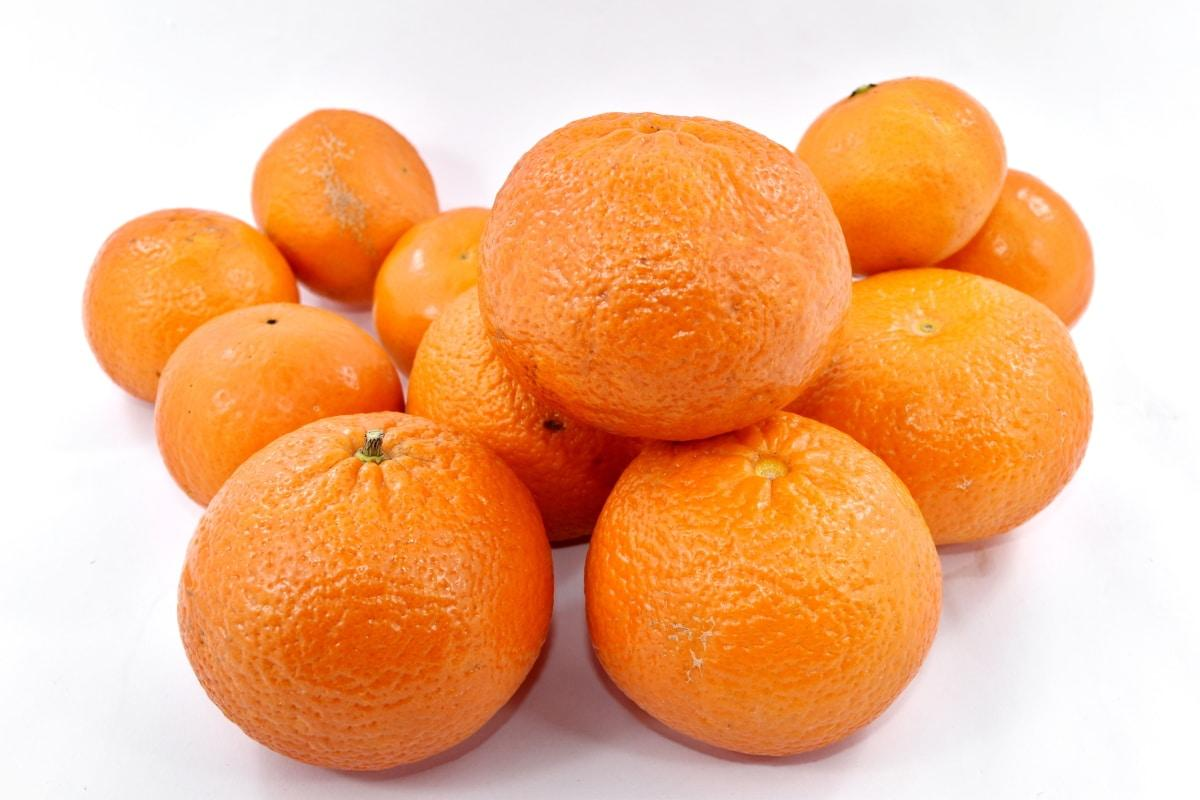cam: (179, 408, 550, 770), (501, 80, 843, 424), (581, 428, 937, 757)
